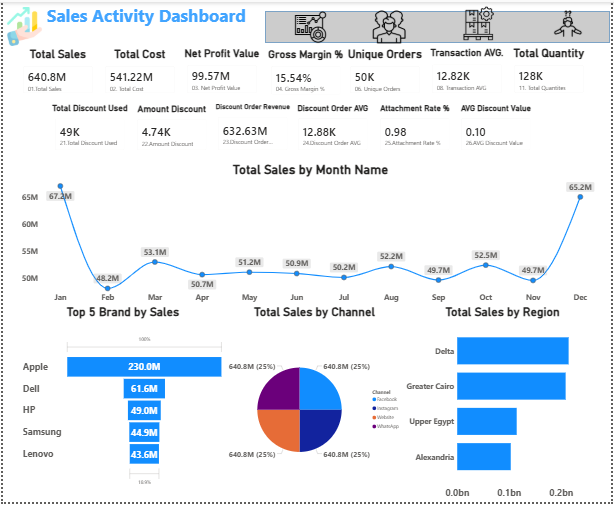

What the dashboard file says about the page in this screenshot:
{"tool":"powerbi","page":{"name":"Overview Sales Analysis","canvas":[1700,1400],"ordinal":0},"visuals":[{"type":"textbox","box":[117.6,0,655.2,117.6],"z":0},{"type":"cardVisual","title":"Total Quantity","fields":{"Data":["_Key Measure.11. Total Quantites"]},"box":[1423.2,123.2,229,148],"z":0,"group":"g1"},{"type":"cardVisual","title":"Total Sales","fields":{"Data":["_Key Measure.01. Total Sales"]},"box":[47.6,125.3,229.1,146.5],"z":0,"group":"g2"},{"type":"cardVisual","title":"Total Discount Used","fields":{"Data":["_Key Measure.21.Total Discount Used"]},"box":[137.8,281.6,228.8,149.6],"z":0,"group":"g4"},{"type":"group","id":"g1","title":"Group 2","box":[47.6,123.2,1603.8,149.6],"z":1000,"group":"g3"},{"type":"group","id":"g2","title":"Group 1","box":[47.6,125.3,1375,148.1],"z":1000,"group":"g1"},{"type":"cardVisual","title":"Total Cost","fields":{"Data":["_Key Measure.02. Total Cost"]},"box":[276.7,125.3,229.1,146.5],"z":1000,"group":"g2"},{"type":"cardVisual","title":"Amount Discount","fields":{"Data":["_Key Measure.22.Amount Discount"]},"box":[366.6,281.6,228.8,149.6],"z":1000,"group":"g4"},{"type":"image","box":[316.4,640.5,181.4,86.1],"z":1000},{"type":"cardVisual","title":"Net Profit Value","fields":{"Data":["_Key Measure.03. Net Profit Value"]},"box":[505.8,125.3,229.1,146.5],"z":2000,"group":"g2"},{"type":"cardVisual","title":"Discount Order Revenue","fields":{"Data":["_Key Measure.23.Discount Order Revenue"]},"box":[595.4,281.6,228.8,149.6],"z":2000,"group":"g4"},{"type":"image","box":[521,638.4,231.6,88.2],"z":2000},{"type":"group","id":"g3","title":"Group 5","box":[47.6,123.2,1604.4,308],"z":3000},{"type":"cardVisual","title":"Gross Margin %","fields":{"Data":["_Key Measure.04. Gross Margin %"]},"box":[742,126.9,228.1,147.2],"z":3000,"group":"g2"},{"type":"group","id":"g4","title":"Group 3","box":[137.8,281.6,1366.2,149.6],"z":3000,"group":"g3"},{"type":"cardVisual","title":"Discount Order AVG","fields":{"Data":["_Key Measure.24.Discount Order AVG"]},"box":[817.6,281.6,228.8,149.6],"z":3000,"group":"g4"},{"type":"cardVisual","title":"Unique Orders","fields":{"Data":["_Key Measure.06. Unique Orders"]},"box":[964,125.3,229.1,146.5],"z":4000,"group":"g2"},{"type":"cardVisual","title":"Attachment Rate %","fields":{"Data":["_Key Measure.25.Attachment Rate %"]},"box":[1046.4,281.6,228.8,149.6],"z":4000,"group":"g4"},{"type":"lineChart","title":"Total Sales by Month Name","fields":{"Y":["_Key Measure. 01.Total Sales"],"Category":["Dim - Calendar.Month Name"]},"box":[47.6,448,1626.8,403.4],"z":4000},{"type":"cardVisual","title":"Transaction AVG.","fields":{"Data":["_Key Measure.08. Transaction AVG"]},"box":[1193.1,125.3,229.1,146.5],"z":5000,"group":"g2"},{"type":"cardVisual","title":"AVG Discount Value","fields":{"Data":["_Key Measure.26.AVG Discount Value"]},"box":[1275.2,281.6,228.8,149.6],"z":5000,"group":"g4"},{"type":"image","box":[689.4,898.1,181.4,79.8],"z":5000},{"type":"image","box":[1400,126,190.4,92.4],"z":6000},{"type":"image","box":[2.8,14,114.8,109.2],"z":7000},{"type":"pieChart","title":"Total Sales by Channel","fields":{"Category":["Dim - Marketing.Channel"],"Y":["_Key Measure. 01.Total Sales"]},"box":[621.6,848.7,501.2,548.6],"z":8000},{"type":"shape","box":[596.4,156.8,966,89.6],"z":9000},{"type":"barChart","title":"Total Sales by Region","fields":{"Category":["Dim - Customers.Region"],"Y":["_Key Measure. 01.Total Sales"]},"box":[1122.8,848.7,551.6,551.3],"z":10000},{"type":"funnel","title":"Top 5 Brand by Sales ","fields":{"Category":["Dim - Products.Brand"],"Y":["_Key Measure. 01.Total Sales"]},"box":[50.4,848.7,571.2,551.3],"z":11000}]}

Visuals, with their boxes in screenshot pixels (x1, y1, x2, y2), scaled from the page's 1700x1400 canvas onto the 614x505 screenshot:
textbox: <bbox>42, 0, 279, 42</bbox>
"Total Quantity" cardVisual: <bbox>514, 44, 597, 98</bbox>
"Total Sales" cardVisual: <bbox>17, 45, 100, 98</bbox>
"Total Discount Used" cardVisual: <bbox>50, 102, 132, 156</bbox>
"Group 2" group: <bbox>17, 44, 596, 98</bbox>
"Group 1" group: <bbox>17, 45, 514, 99</bbox>
"Total Cost" cardVisual: <bbox>100, 45, 183, 98</bbox>
"Amount Discount" cardVisual: <bbox>132, 102, 215, 156</bbox>
image: <bbox>114, 231, 180, 262</bbox>
"Net Profit Value" cardVisual: <bbox>183, 45, 265, 98</bbox>
"Discount Order Revenue" cardVisual: <bbox>215, 102, 298, 156</bbox>
image: <bbox>188, 230, 272, 262</bbox>
"Group 5" group: <bbox>17, 44, 597, 156</bbox>
"Gross Margin %" cardVisual: <bbox>268, 46, 350, 99</bbox>
"Group 3" group: <bbox>50, 102, 543, 156</bbox>
"Discount Order AVG" cardVisual: <bbox>295, 102, 378, 156</bbox>
"Unique Orders" cardVisual: <bbox>348, 45, 431, 98</bbox>
"Attachment Rate %" cardVisual: <bbox>378, 102, 461, 156</bbox>
"Total Sales by Month Name" lineChart: <bbox>17, 162, 605, 307</bbox>
"Transaction AVG." cardVisual: <bbox>431, 45, 514, 98</bbox>
"AVG Discount Value" cardVisual: <bbox>461, 102, 543, 156</bbox>
image: <bbox>249, 324, 315, 353</bbox>
image: <bbox>506, 45, 574, 79</bbox>
image: <bbox>1, 5, 42, 44</bbox>
"Total Sales by Channel" pieChart: <bbox>225, 306, 406, 504</bbox>
shape: <bbox>215, 57, 564, 89</bbox>
"Total Sales by Region" barChart: <bbox>406, 306, 605, 504</bbox>
"Top 5 Brand by Sales " funnel: <bbox>18, 306, 225, 504</bbox>
